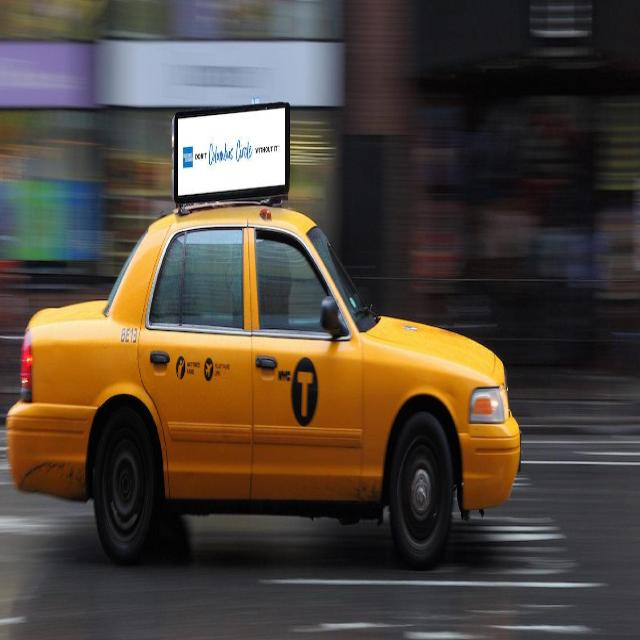Taxi: (0, 167, 546, 561)
